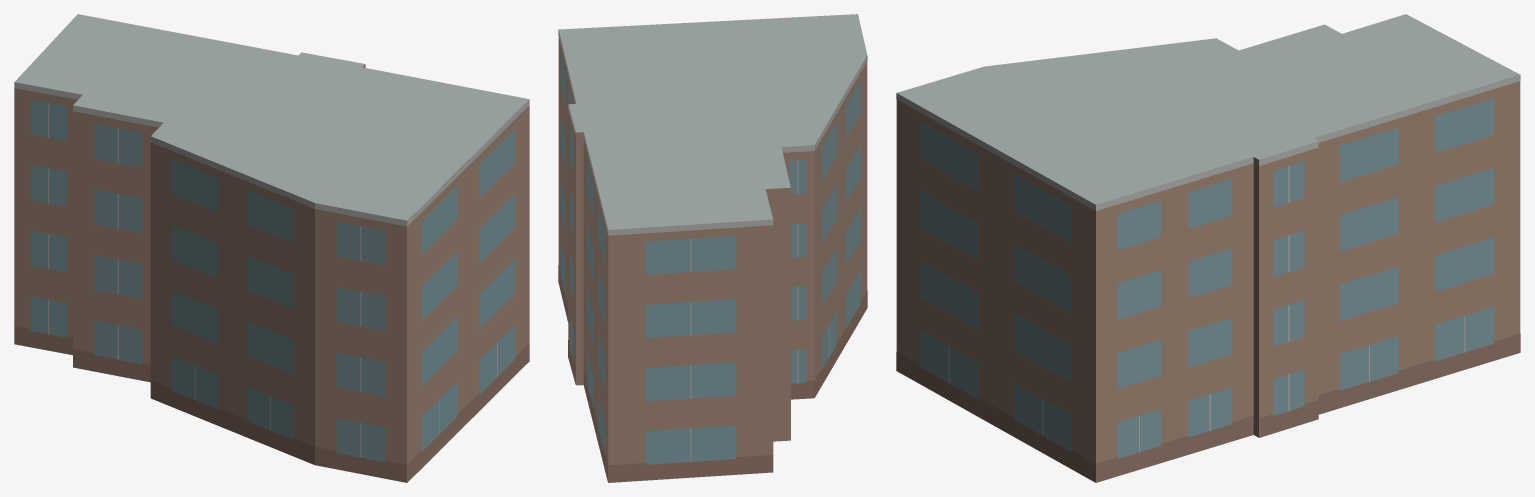
The model's file is survey-upis-32526390.glb.
The picture shows the model from 3 angles, left to right: view 1: azimuth 30°, elevation 25°; view 2: azimuth 150°, elevation 25°; view 3: azimuth 270°, elevation 25°; orthographic projection. The views are drawn at different scales.
Visible parts, largest first — view 1: survey-upis-32526390.tmp; view 2: survey-upis-32526390.tmp; view 3: survey-upis-32526390.tmp.
Boxes of the visible parts, box(x1,y1,x2,y2) form: survey-upis-32526390.tmp: box(14, 14, 529, 482); survey-upis-32526390.tmp: box(558, 14, 867, 482); survey-upis-32526390.tmp: box(896, 14, 1520, 482).
Bounding box in the file's own units: 15.91 × 10.8 × 21.98.
